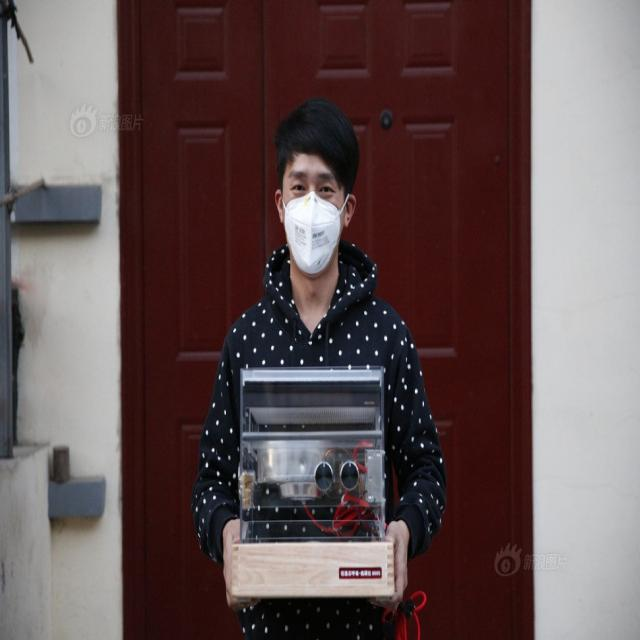mask: (281, 156, 341, 273)
